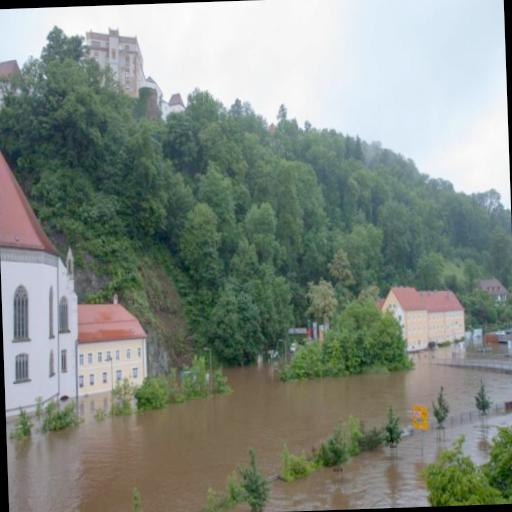flood: (6, 355, 512, 512), (265, 431, 437, 512), (448, 418, 487, 463), (492, 412, 512, 436)
house: (0, 124, 82, 445), (83, 22, 189, 124), (72, 298, 154, 408), (382, 279, 469, 354), (408, 398, 436, 430)
